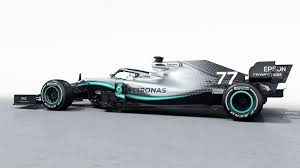FormulaOneCar: (10, 51, 294, 130)
